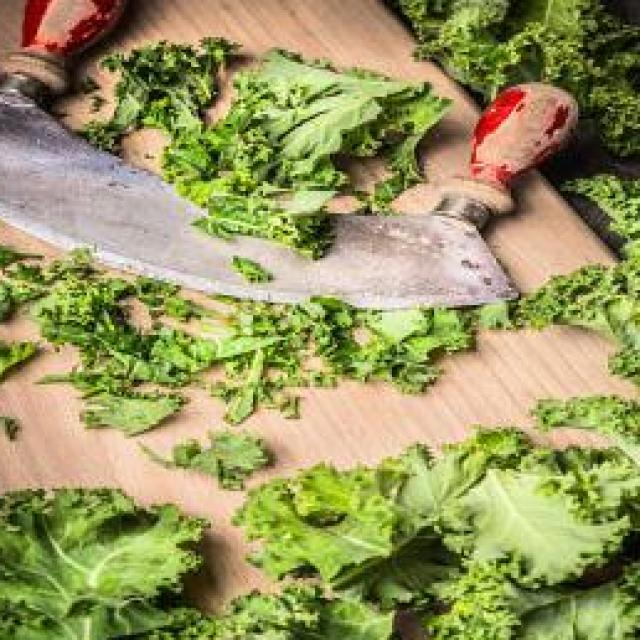knife: (0, 0, 586, 312)
